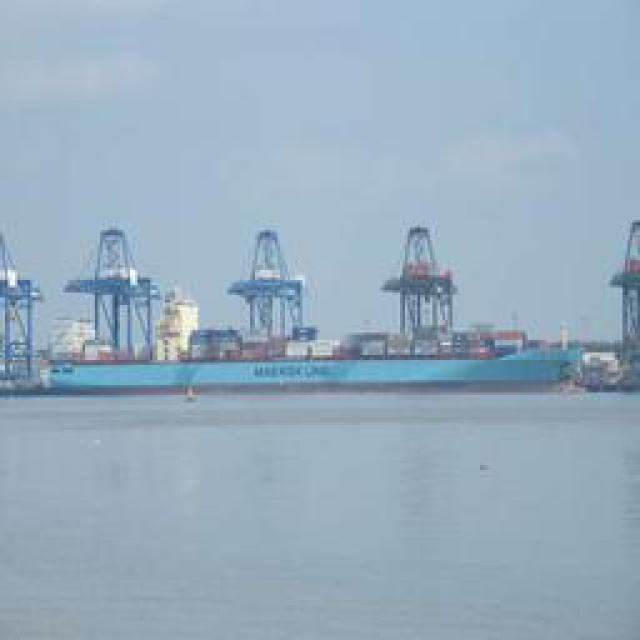Ship: (16, 222, 609, 395)
